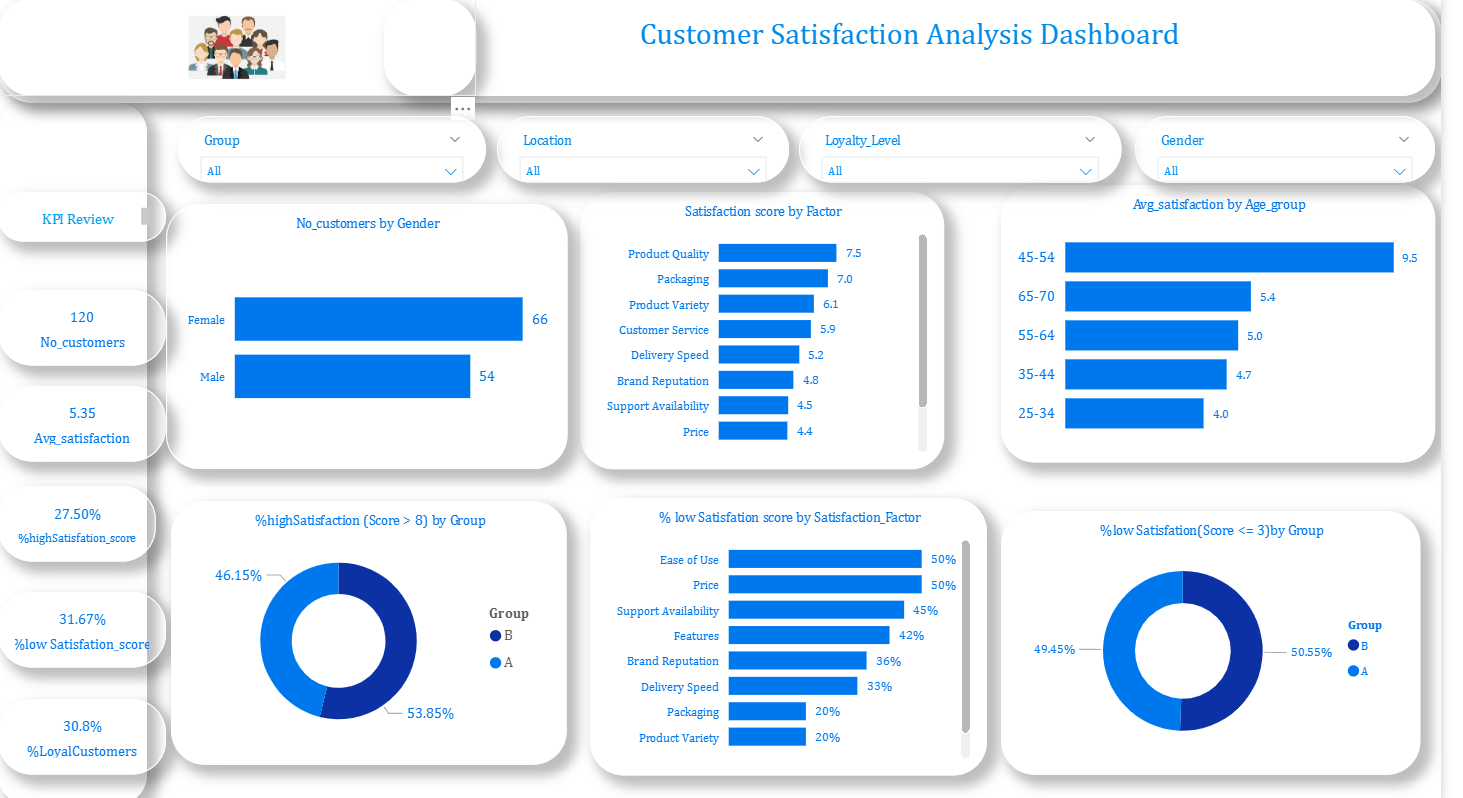

Layout of this report page (visuals, bound fields, positions):
{"tool":"powerbi","page":{"name":"Dashboard","canvas":[1280,720],"ordinal":0},"visuals":[{"type":"shape","box":[0,98.4,132.1,621.6],"z":0},{"type":"shape","box":[0,6.2,1280.4,92.2],"z":1000},{"type":"card","fields":{"Values":["MeasureTable.No_customers"]},"box":[0,264.2,149,67.4],"z":2000},{"type":"card","fields":{"Values":["MeasureTable.Avg_satifaction"]},"box":[0,349.4,149,67.4],"z":3000},{"type":"card","fields":{"Values":["MeasureTable.%highSatisfaction (Score > 8)"]},"box":[0,438,140.1,67.4],"z":4000},{"type":"card","fields":{"Values":["MeasureTable.%low Satifation"]},"box":[0,532,149,67.4],"z":5000},{"type":"card","fields":{"Values":["MeasureTable.%LoyalCustomers"]},"box":[0,626.9,149,67.4],"z":6000},{"type":"barChart","title":"Satisfaction score  by Factor","fields":{"Category":["Customer_Satif.Satisfaction_Factor"],"Y":["MeasureTable.Avg_satifaction"]},"box":[516.1,177.3,322.8,245.6],"z":7000},{"type":"barChart","title":"% low Satisfation score  by Satisfaction_Factor","fields":{"Category":["Customer_Satif.Satisfaction_Factor"],"Y":["MeasureTable.%low Satifation"]},"box":[524.9,448.7,352,245.6],"z":8000},{"type":"barChart","title":"Avg_satisfaction by Age_group","fields":{"Category":["Customer_Satif.Age_group"],"Y":["MeasureTable.Avg_satifaction"]},"box":[889.4,171.1,384.8,245.6],"z":9000},{"type":"textbox","box":[0,177.3,149,44.3],"z":13000},{"type":"textbox","box":[342.3,6.2,931.9,86],"z":14000},{"type":"image","box":[0,6.2,423.8,86],"z":15000},{"type":"slicer","fields":{"Values":["Customer_Satif.Group"]},"box":[159.6,110,273.1,59.4],"z":16000},{"type":"slicer","fields":{"Values":["Customer_Satif.Location"]},"box":[442.5,110,258.9,59.4],"z":17000},{"type":"slicer","fields":{"Values":["Customer_Satif.Loyalty_Level"]},"box":[710.2,110,285.5,59.4],"z":18000},{"type":"slicer","fields":{"Values":["Customer_Satif.Gender"]},"box":[1008.2,110,266,59.4],"z":19000},{"type":"barChart","fields":{"Category":["Customer_Satif.Gender"],"Y":["MeasureTable.No_customers"]},"box":[149,188,355.6,235],"z":19001},{"type":"donutChart","fields":{"Y":["MeasureTable.%highSatisfaction (Score > 8)"],"Category":["Customer_Satif.Group"]},"box":[153.4,451.3,351.1,234.1],"z":19002},{"type":"donutChart","title":"%low Satisfation(Score <= 3)by Group","fields":{"Category":["Customer_Satif.Group"],"Y":["MeasureTable.%low Satifation"]},"box":[889.4,460.2,372.4,234.1],"z":19003}]}

Visuals, with their boxes on the page's 1280x720 design canvas (x1, y1, x2, y2). These are canvas units, not pixel positions in the 1463x798 screenshot, which may show the page scaled, cropped or inside an application window:
shape: 0, 98, 132, 720
shape: 0, 6, 1280, 98
card - MeasureTable.No_customers: 0, 264, 149, 332
card - MeasureTable.Avg_satifaction: 0, 349, 149, 417
card - MeasureTable.%highSatisfaction (Score > 8): 0, 438, 140, 505
card - MeasureTable.%low Satifation: 0, 532, 149, 599
card - MeasureTable.%LoyalCustomers: 0, 627, 149, 694
"Satisfaction score  by Factor" barChart: 516, 177, 839, 423
"% low Satisfation score  by Satisfaction_Factor" barChart: 525, 449, 877, 694
"Avg_satisfaction by Age_group" barChart: 889, 171, 1274, 417
textbox: 0, 177, 149, 222
textbox: 342, 6, 1274, 92
image: 0, 6, 424, 92
slicer - Customer_Satif.Group: 160, 110, 433, 169
slicer - Customer_Satif.Location: 442, 110, 701, 169
slicer - Customer_Satif.Loyalty_Level: 710, 110, 996, 169
slicer - Customer_Satif.Gender: 1008, 110, 1274, 169
barChart - Customer_Satif.Gender x MeasureTable.No_customers: 149, 188, 505, 423
donutChart - MeasureTable.%highSatisfaction (Score > 8) x Customer_Satif.Group: 153, 451, 504, 685
"%low Satisfation(Score <= 3)by Group" donutChart: 889, 460, 1262, 694
